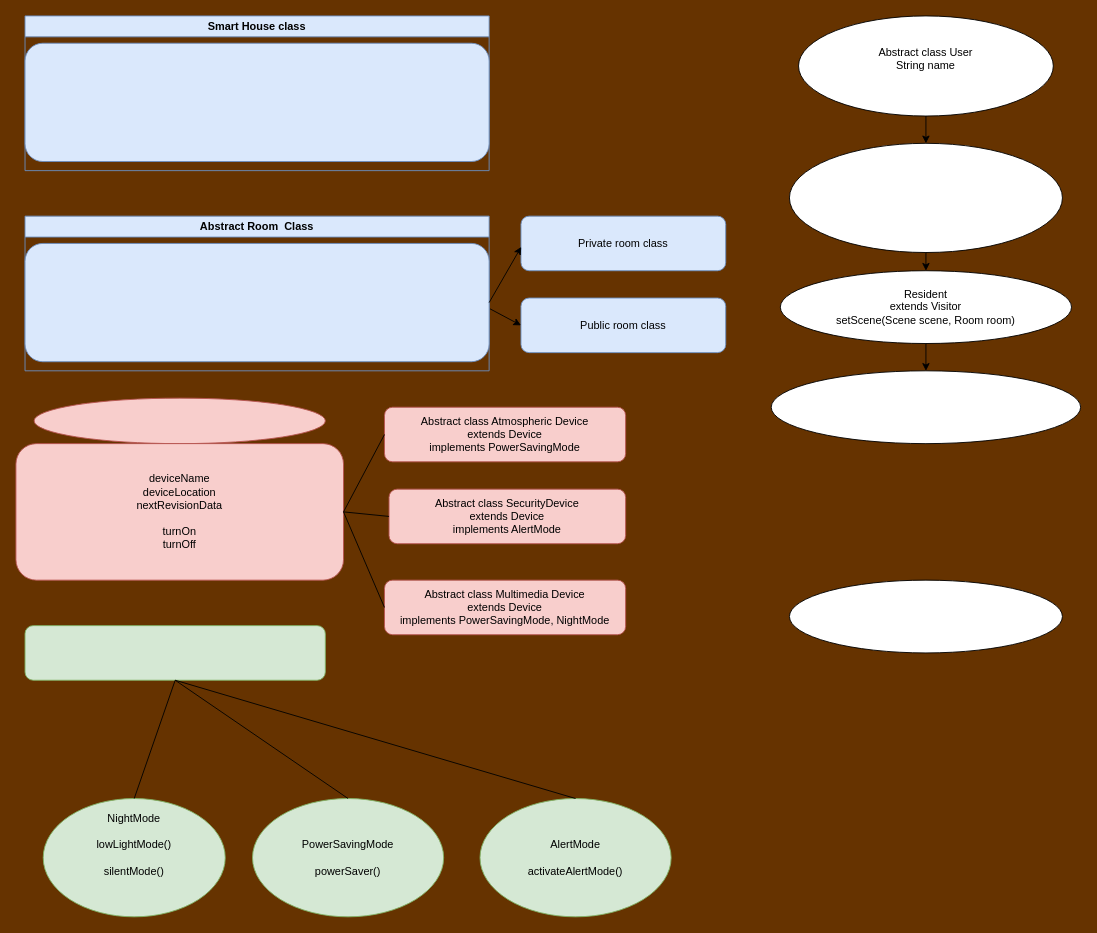
This 1097x933 diagram has some shape labels left out. Here are the shapes that lost their labels. From the top down, the centre of each, then its label:
pixel 256 102: Fields List<User> List<Room>
pixel 925 197: Visitor extends User setScene(Scene scene, PrivateRoom room)
pixel 256 302: Fields String roomName List<Device> Methods installDevice uninstallDevice
pixel 179 420: Abstract Class Device
pixel 925 407: Owner extends Resident installDevice uninstallDevice
pixel 925 616: class Scene settings for each abstract device type
pixel 174 652: Device Interfaces
